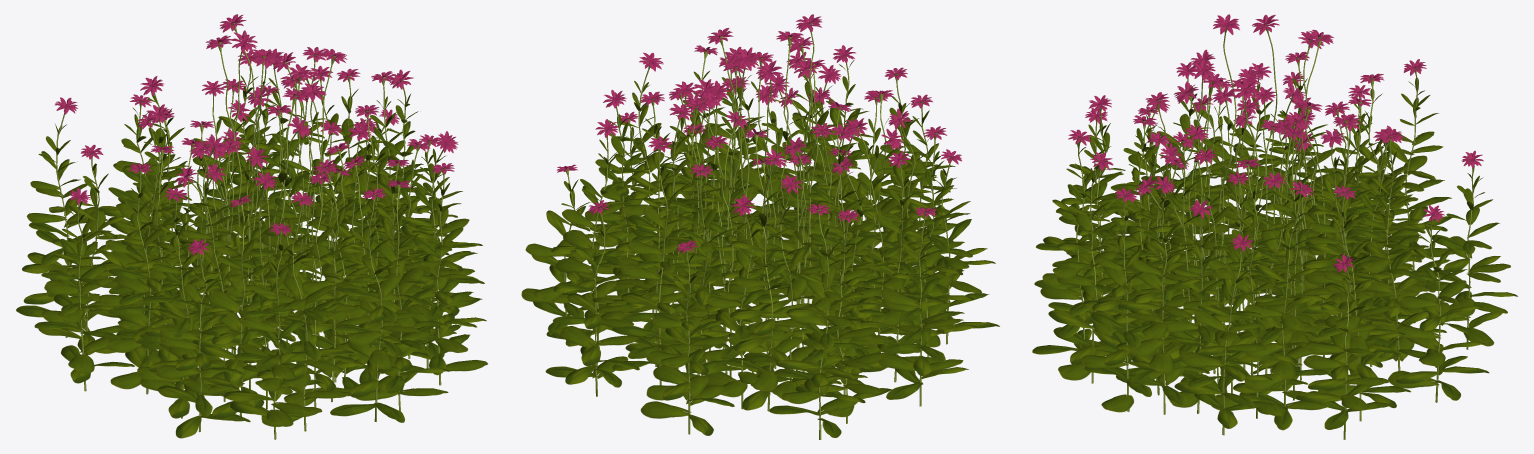
Rendered from garden_flower_-_vegetation.glb.
3 renders of one model, left to right at view 1: azimuth 30°, elevation 25°; view 2: azimuth 150°, elevation 25°; view 3: azimuth 270°, elevation 25°, orthographic.
Visible parts, largest first — view 1: flower_Leaf_MatSG_0, flower_Stem_MatSG_0, flower_Flower_MatSG_0; view 2: flower_Leaf_MatSG_0, flower_Stem_MatSG_0, flower_Flower_MatSG_0; view 3: flower_Leaf_MatSG_0, flower_Stem_MatSG_0, flower_Flower_MatSG_0.
Part boxes in pixels (bbox=[...]): flower_Leaf_MatSG_0: bbox=[16, 72, 487, 438]; flower_Stem_MatSG_0: bbox=[56, 22, 445, 439]; flower_Flower_MatSG_0: bbox=[54, 14, 458, 255]; flower_Leaf_MatSG_0: bbox=[521, 60, 999, 437]; flower_Stem_MatSG_0: bbox=[564, 23, 952, 439]; flower_Flower_MatSG_0: bbox=[557, 14, 961, 253]; flower_Leaf_MatSG_0: bbox=[1032, 75, 1517, 430]; flower_Stem_MatSG_0: bbox=[1076, 24, 1473, 439]; flower_Flower_MatSG_0: bbox=[1068, 14, 1483, 272].
Bounding box in the file's own units: 5.58 × 4.32 × 5.76.
Materials: 3 (3 with a texture image).
